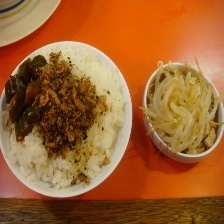sabzi: (0, 51, 99, 156)
